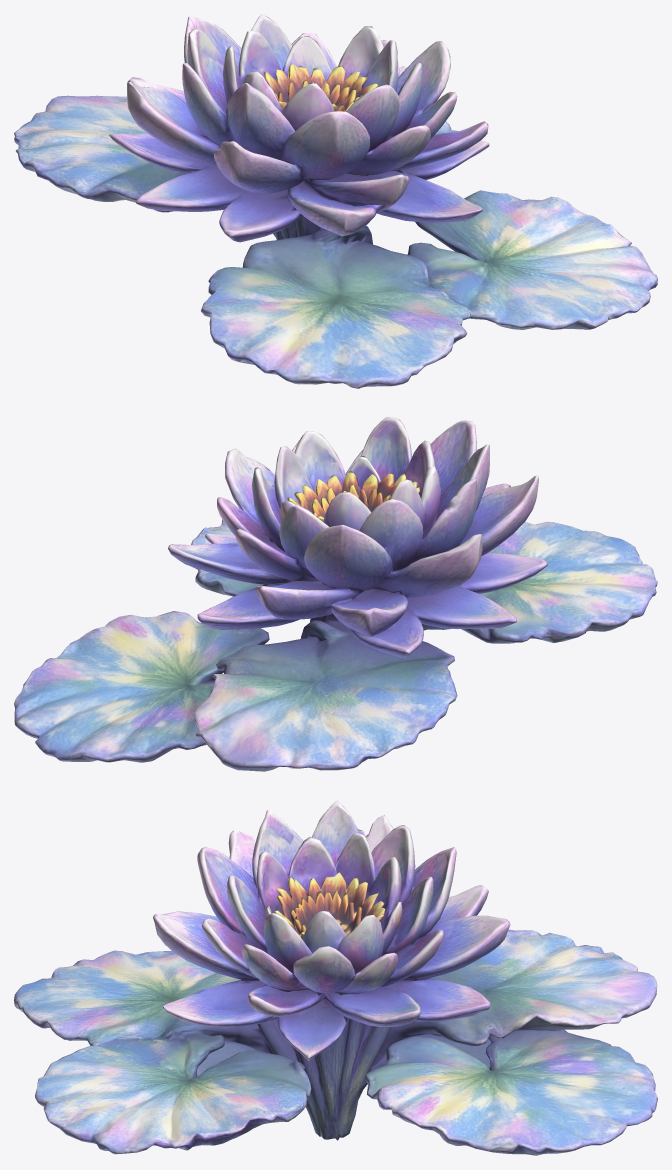
Rendered from lotus+flower+3d+model+1k.glb.
3 views of the same model, one above another, from view 1: azimuth 30°, elevation 25°; view 2: azimuth 150°, elevation 25°; view 3: azimuth 270°, elevation 25° (orthographic). The views are drawn at different scales.
Parts seen in each view (by area): view 1: tripo_node_7f2c4504-5ef6-413e-890a-89dc97f42592; view 2: tripo_node_7f2c4504-5ef6-413e-890a-89dc97f42592; view 3: tripo_node_7f2c4504-5ef6-413e-890a-89dc97f42592.
Boxes of the visible parts, left/top/right/bottom form: tripo_node_7f2c4504-5ef6-413e-890a-89dc97f42592: left=14, top=14, right=657, bottom=388; tripo_node_7f2c4504-5ef6-413e-890a-89dc97f42592: left=14, top=417, right=657, bottom=771; tripo_node_7f2c4504-5ef6-413e-890a-89dc97f42592: left=14, top=800, right=657, bottom=1155.
Bounding box in the file's own units: 0.6948 × 0.4647 × 1.
Materials: 1 (1 with a texture image).
